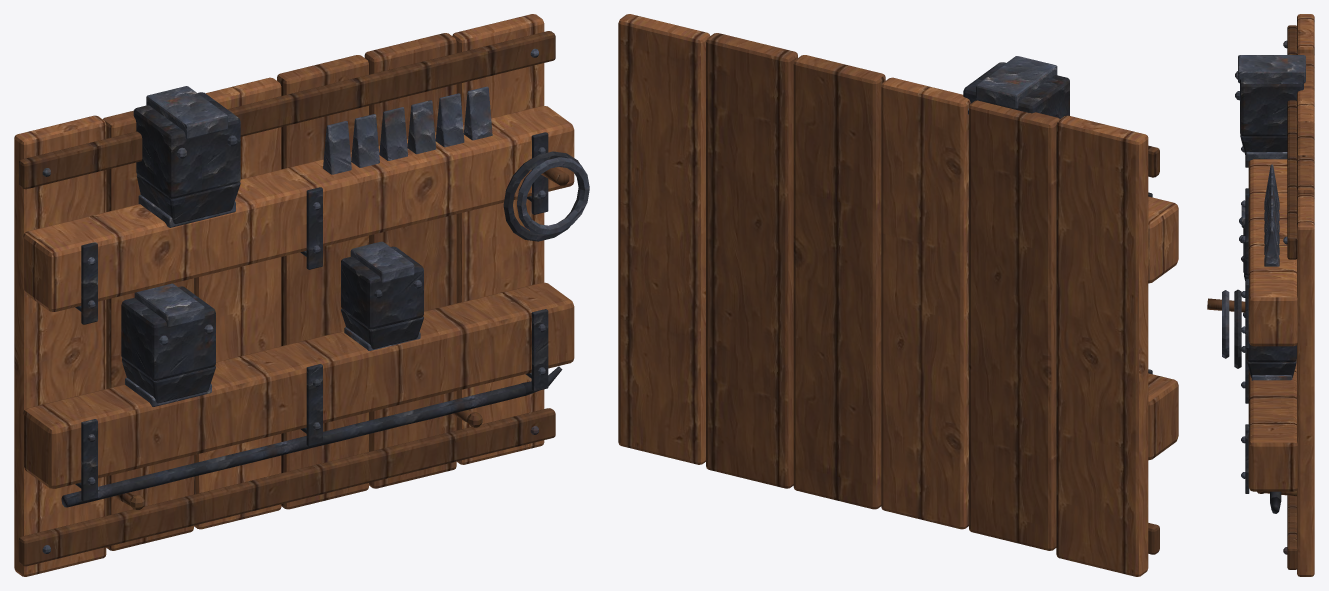
The model's file is hw_hammer_head_rack.glb.
The picture shows the model from 3 angles, left to right: view 1: azimuth 30°, elevation 25°; view 2: azimuth 150°, elevation 25°; view 3: azimuth 270°, elevation 25°; orthographic projection. The views are drawn at different scales.
Visible parts, largest first — view 1: model; view 2: model; view 3: model.
Part boxes in pixels (box(x1,y1,x2,y2)): model: box(14, 14, 589, 576); model: box(618, 14, 1178, 576); model: box(1207, 14, 1314, 576).
Bounding box in the file's own units: 1.42 × 1.14 × 0.3014.
5 materials, 5 textured.
